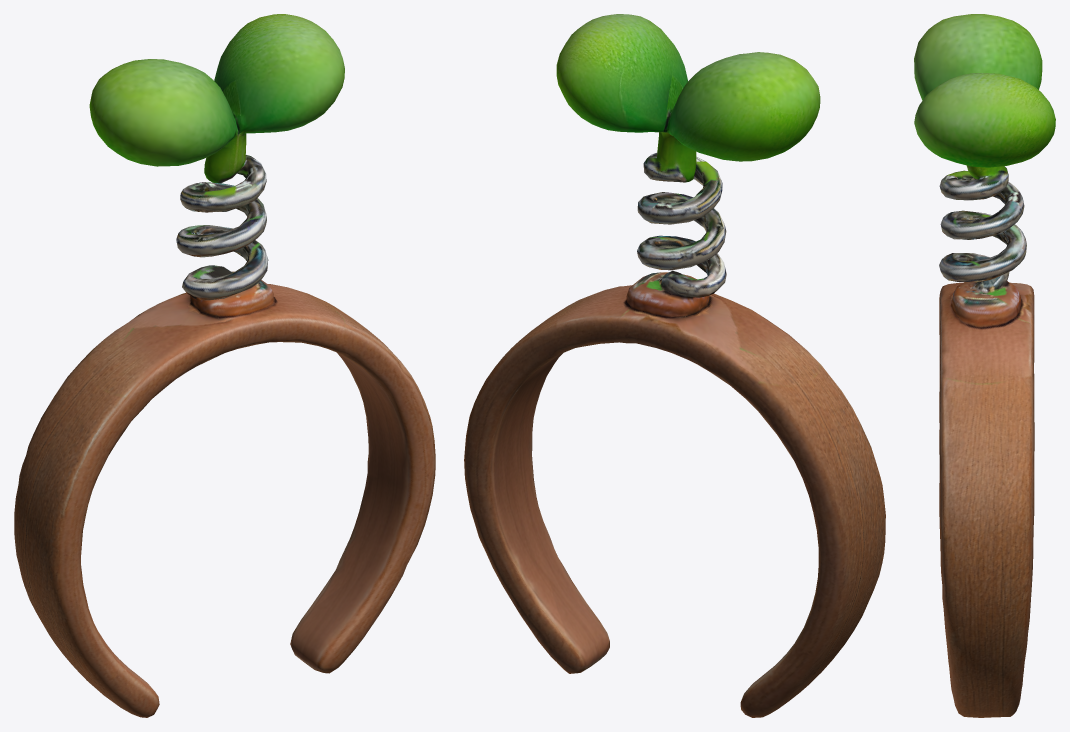
The model's file is hairband_sprout.glb.
3 views of the same model, side by side, from view 1: azimuth 30°, elevation 25°; view 2: azimuth 150°, elevation 25°; view 3: azimuth 270°, elevation 25° (orthographic). The views are drawn at different scales.
Parts seen in each view (by area): view 1: texture_mapping; view 2: texture_mapping; view 3: texture_mapping.
Part boxes in pixels (x1=…): texture_mapping: x1=14, y1=14, x2=435, y2=717; texture_mapping: x1=464, y1=14, x2=885, y2=717; texture_mapping: x1=914, y1=14, x2=1055, y2=717.
Size of the model in its own units: 0.6265 by 1 by 0.2063.
1 material, 1 textured.
